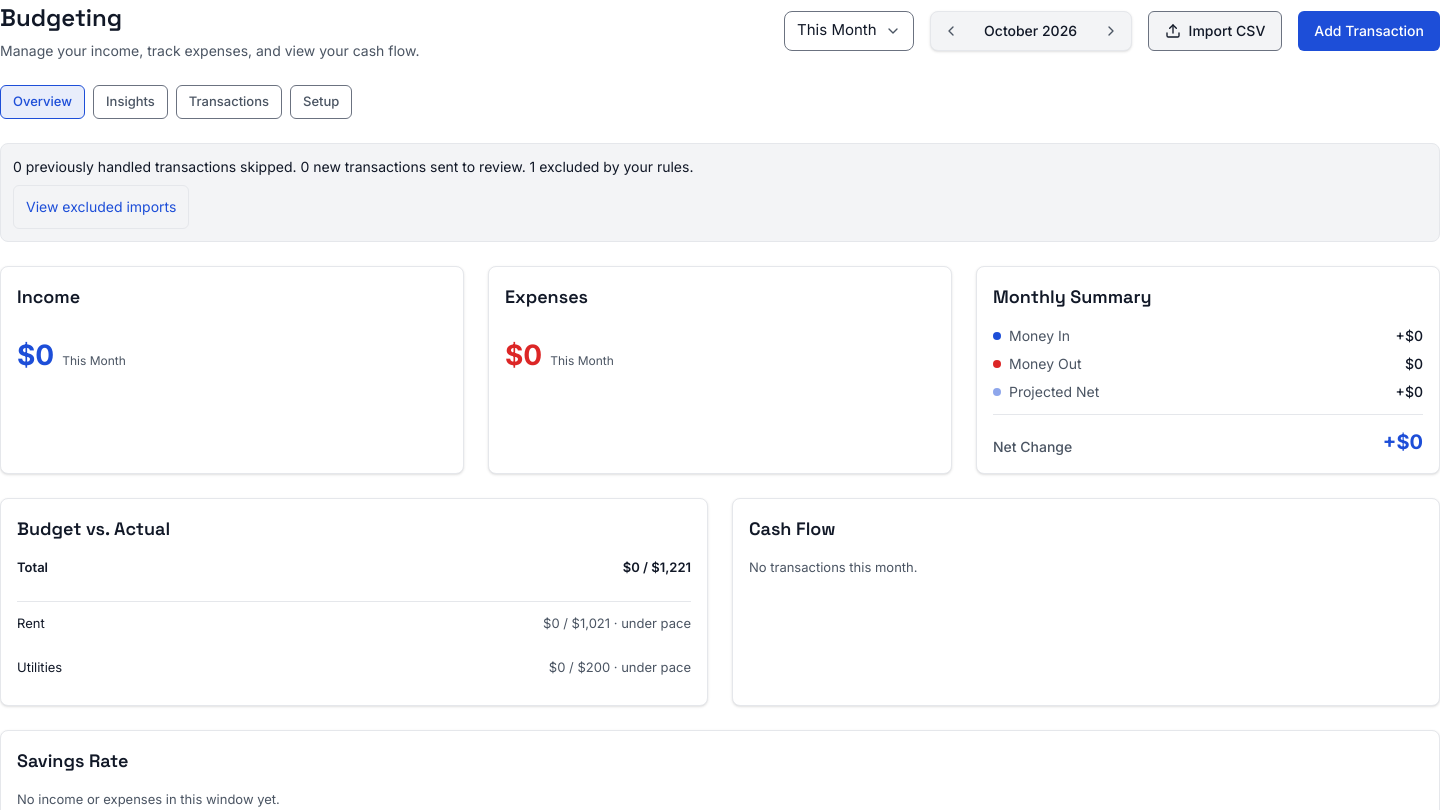
Test case: opens and focuses excluded history from the report on another tab
The width and height of the screenshot is (1440, 810).
Click the button "View excluded imports" at (101, 206), box [13,184,189,228]
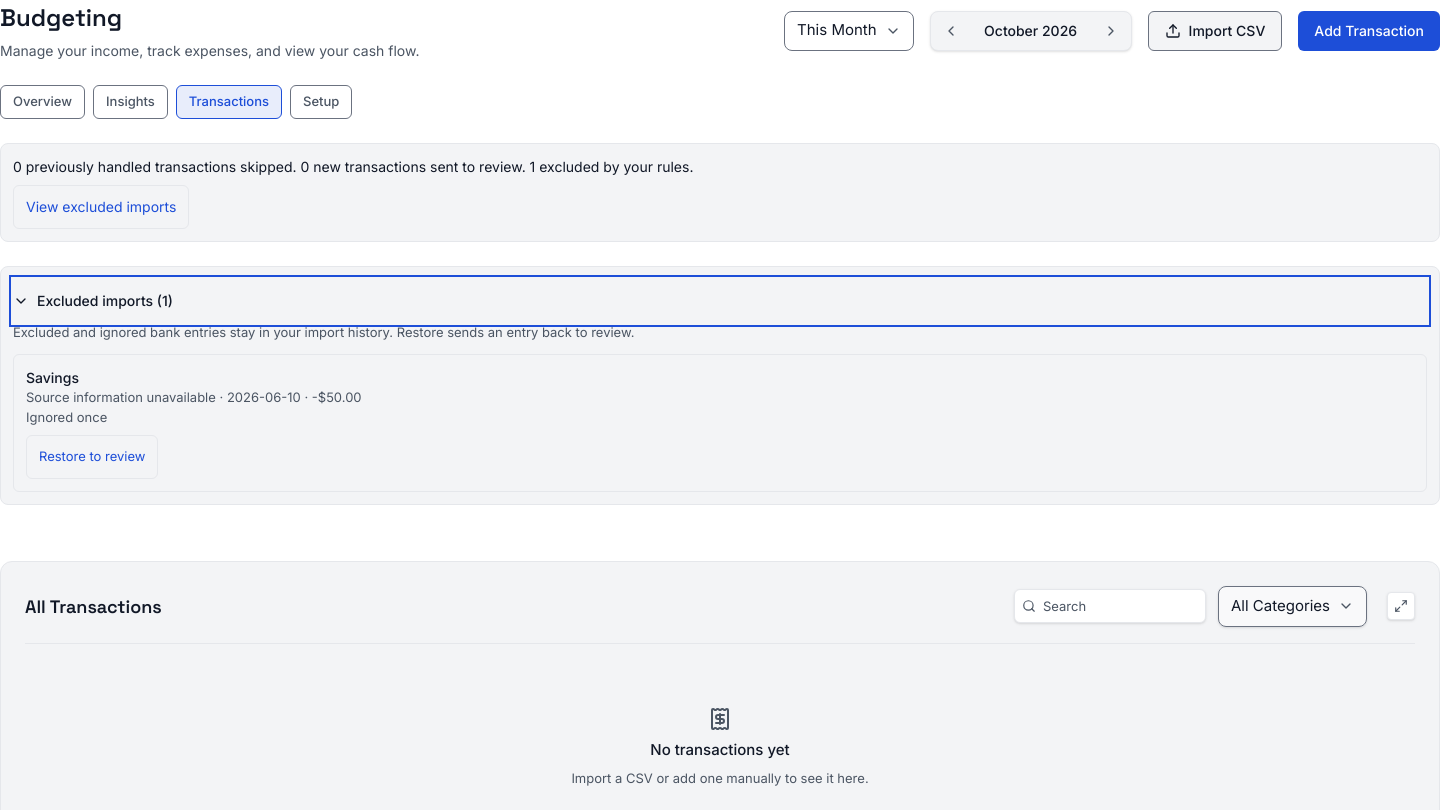
Check: the element with id "excluded-imports" is shown, box [0,266,1439,505]
